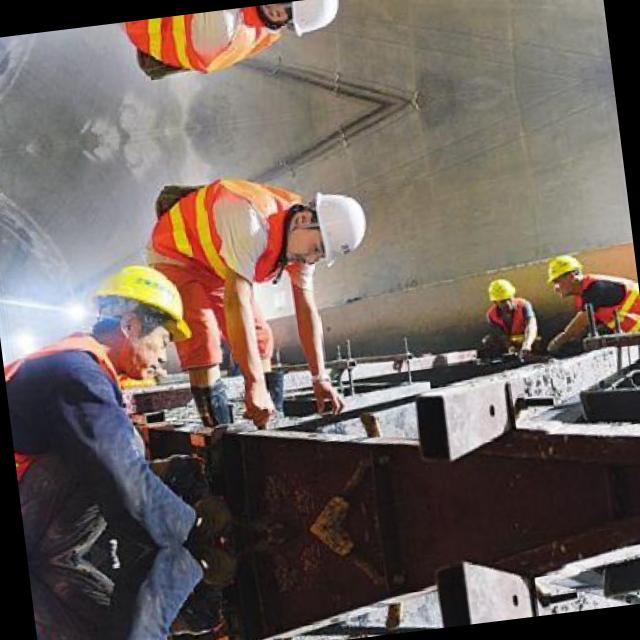helmet: (84, 250, 198, 382), (279, 183, 375, 269), (255, 0, 348, 40), (539, 249, 589, 300), (481, 272, 518, 312)
